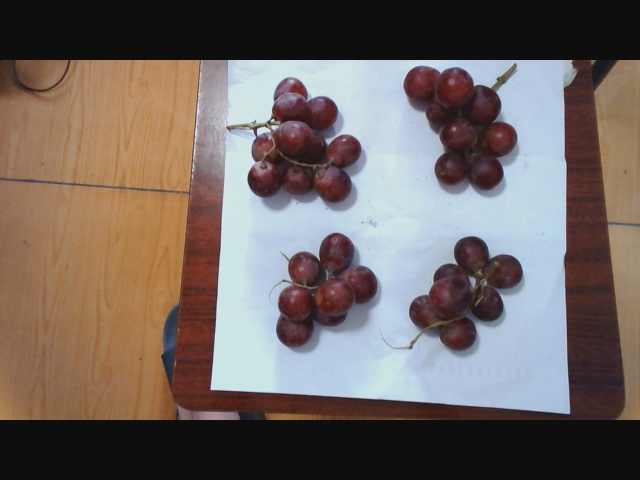grape: (239, 76, 381, 197), (399, 226, 523, 362), (415, 67, 526, 187), (265, 232, 370, 344)
